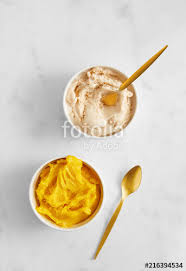ice-cream: (65, 67, 136, 137), (34, 158, 101, 228)
